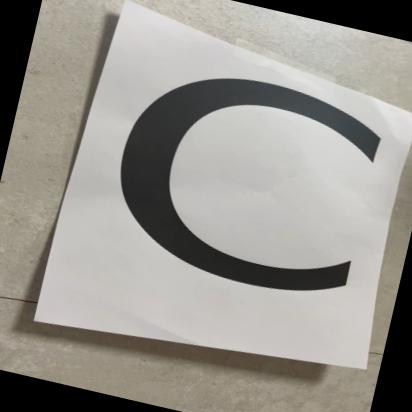seat: (41, 0, 412, 389)
